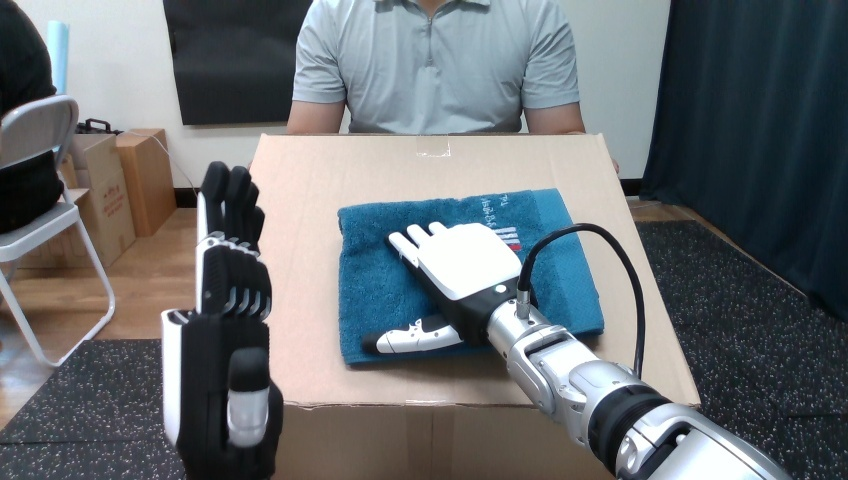left robot hand: (363, 221, 788, 479), (162, 162, 282, 478), (529, 230, 637, 370)
